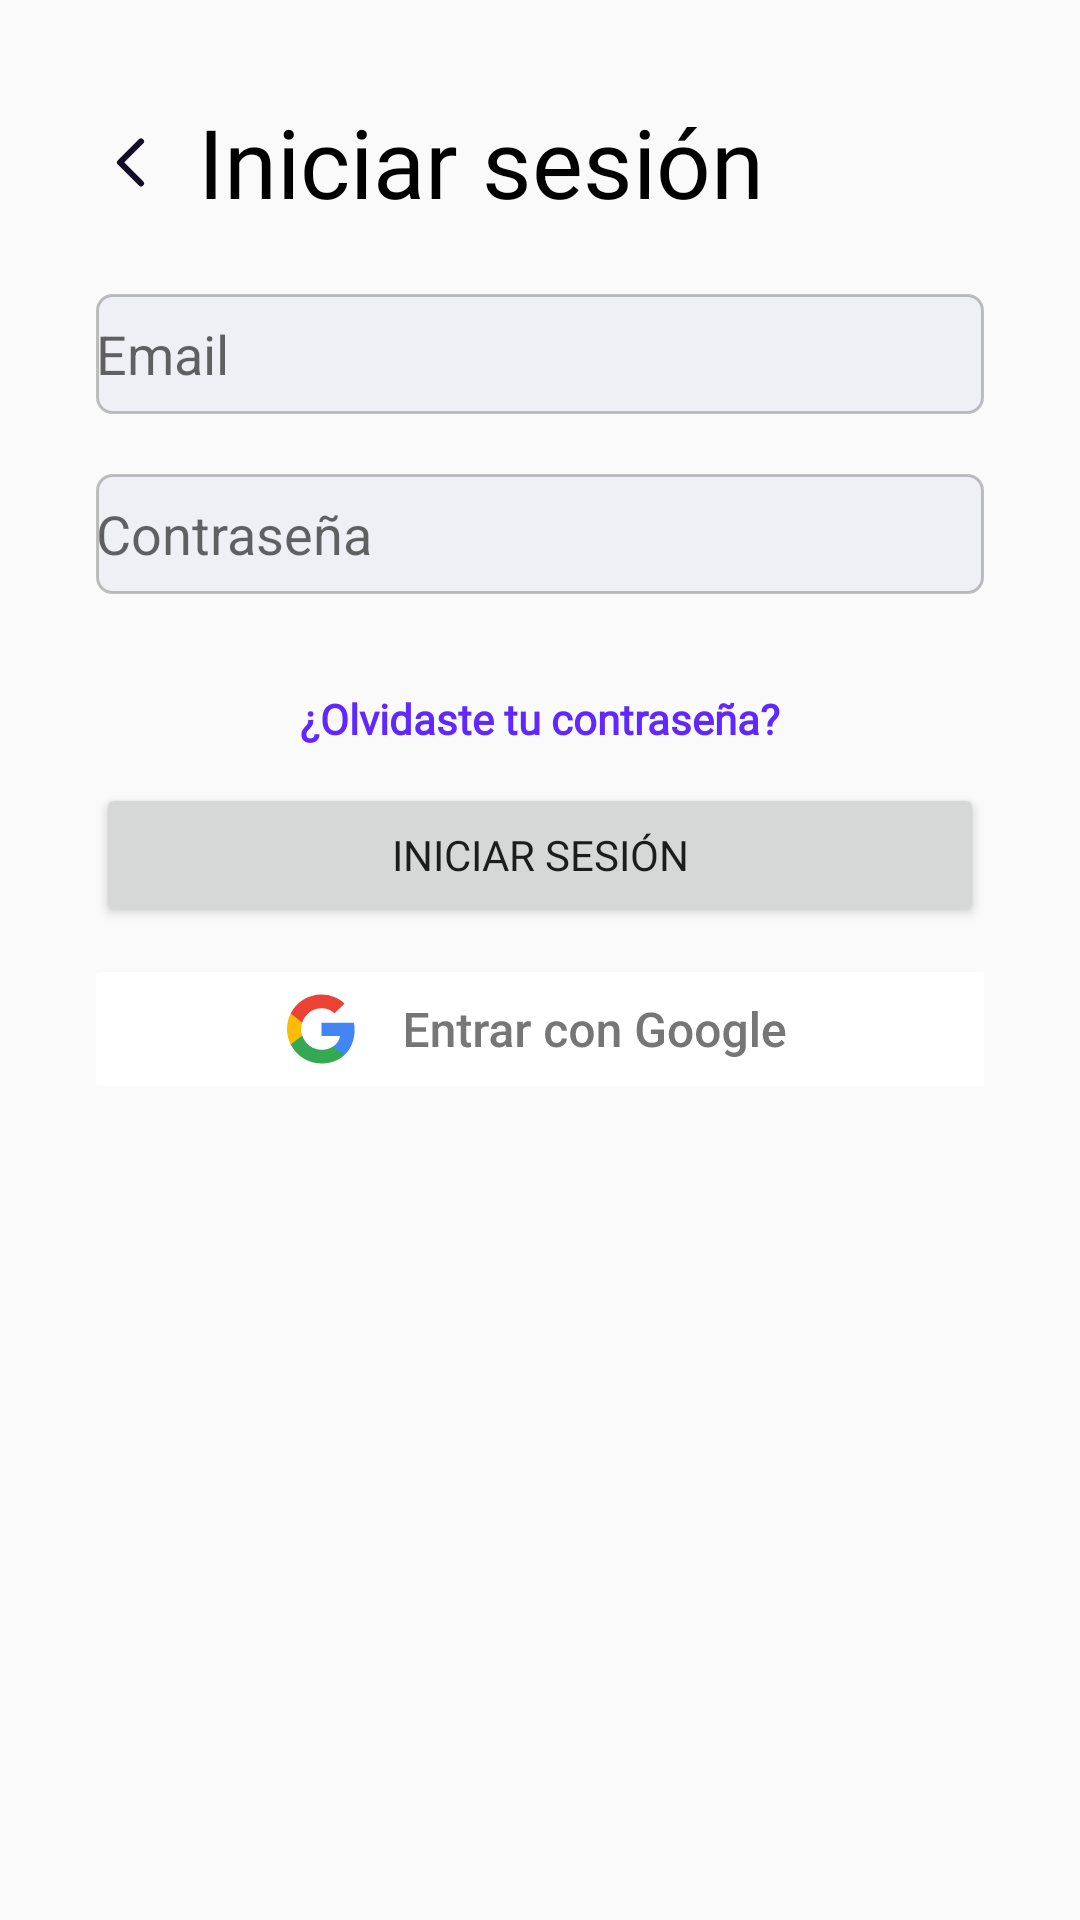

Named icons in this screenshot (1080px×1920px) and their centers, point (x, y):
Icono vuelta atras: point (130, 162)
